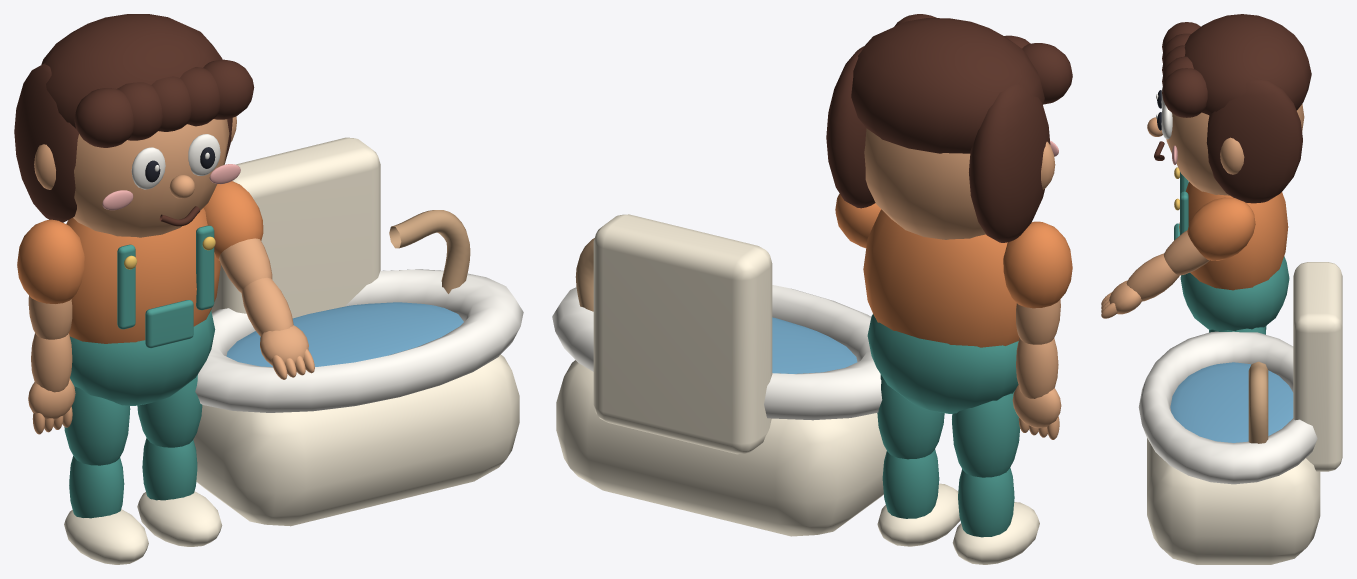
Rendered from ava-need-potty.glb.
3 views of the same model, side by side, from view 1: azimuth 30°, elevation 25°; view 2: azimuth 150°, elevation 25°; view 3: azimuth 270°, elevation 25° (orthographic). The views are drawn at different scales.
Visible parts, largest first — view 1: ceramic base, bath rim, toilet cistern, soft shirt, hair cap, clay head, bath water, overalls, bob hair, shirt sleeve, trouser leg, little shoe.001 (+23 smaller); view 2: toilet cistern, ceramic base, hair cap, soft shirt, bath rim, bob hair, overalls, clay head, shirt sleeve, trouser leg, bob hair.001, trouser leg.001 (+11 smaller); view 3: ceramic base, bath rim, toilet cistern, bob hair.001, hair cap, bath water, soft shirt, overalls, shirt sleeve.001, clay head, fringe.004, tap (+9 smaller).
Boxes of the visible parts, bbox=[...] form: ceramic base: bbox=[193, 354, 519, 526]; bath rim: bbox=[195, 269, 523, 412]; toilet cistern: bbox=[211, 137, 380, 318]; soft shirt: bbox=[66, 208, 220, 343]; hair cap: bbox=[41, 14, 222, 128]; clay head: bbox=[73, 119, 229, 237]; bath water: bbox=[226, 302, 463, 367]; overalls: bbox=[70, 310, 215, 405]; bob hair: bbox=[14, 63, 78, 222]; shirt sleeve: bbox=[17, 219, 84, 303]; trouser leg: bbox=[64, 386, 130, 465]; little shoe.001: bbox=[137, 491, 222, 546]; toilet cistern: bbox=[593, 214, 772, 454]; ceramic base: bbox=[556, 360, 886, 536]; hair cap: bbox=[851, 18, 1044, 153]; soft shirt: bbox=[863, 209, 1019, 347]; bath rim: bbox=[552, 285, 882, 420]; bob hair: bbox=[969, 84, 1050, 242]; overalls: bbox=[867, 314, 1018, 413]; clay head: bbox=[864, 128, 985, 239]; shirt sleeve: bbox=[1003, 221, 1072, 308]; trouser leg: bbox=[952, 391, 1020, 477]; bob hair.001: bbox=[826, 46, 875, 208]; trouser leg.001: bbox=[877, 374, 944, 459]; ceramic base: bbox=[1147, 438, 1320, 564]; bath rim: bbox=[1138, 331, 1317, 484]; toilet cistern: bbox=[1293, 262, 1342, 471]; bob hair.001: bbox=[1206, 79, 1302, 203]; hair cap: bbox=[1184, 14, 1311, 115]; bath water: bbox=[1170, 362, 1293, 442]; soft shirt: bbox=[1179, 182, 1288, 290]; overalls: bbox=[1180, 256, 1289, 330]; shirt sleeve.001: bbox=[1187, 197, 1255, 260]; clay head: bbox=[1166, 104, 1304, 195]; fringe.004: bbox=[1162, 68, 1207, 117]; tap: bbox=[1248, 361, 1268, 443].
Bounding box in the file's own units: 1.88 × 1.87 × 0.9754.
